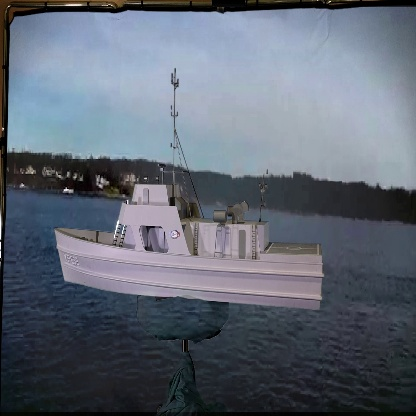YP689: (50, 53, 326, 312)
